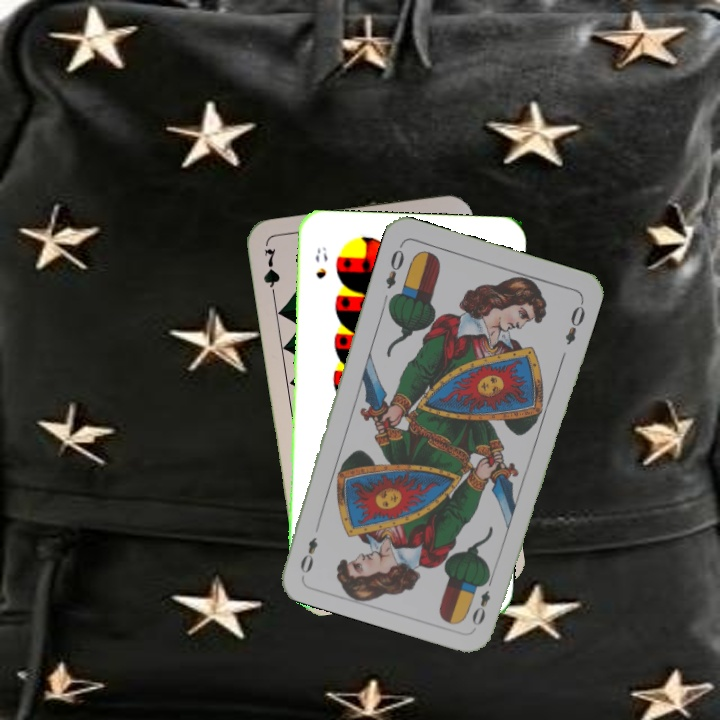EO: (468, 571, 496, 628), (381, 240, 407, 292)
G7: (259, 244, 283, 303)
S8: (311, 243, 330, 281)
